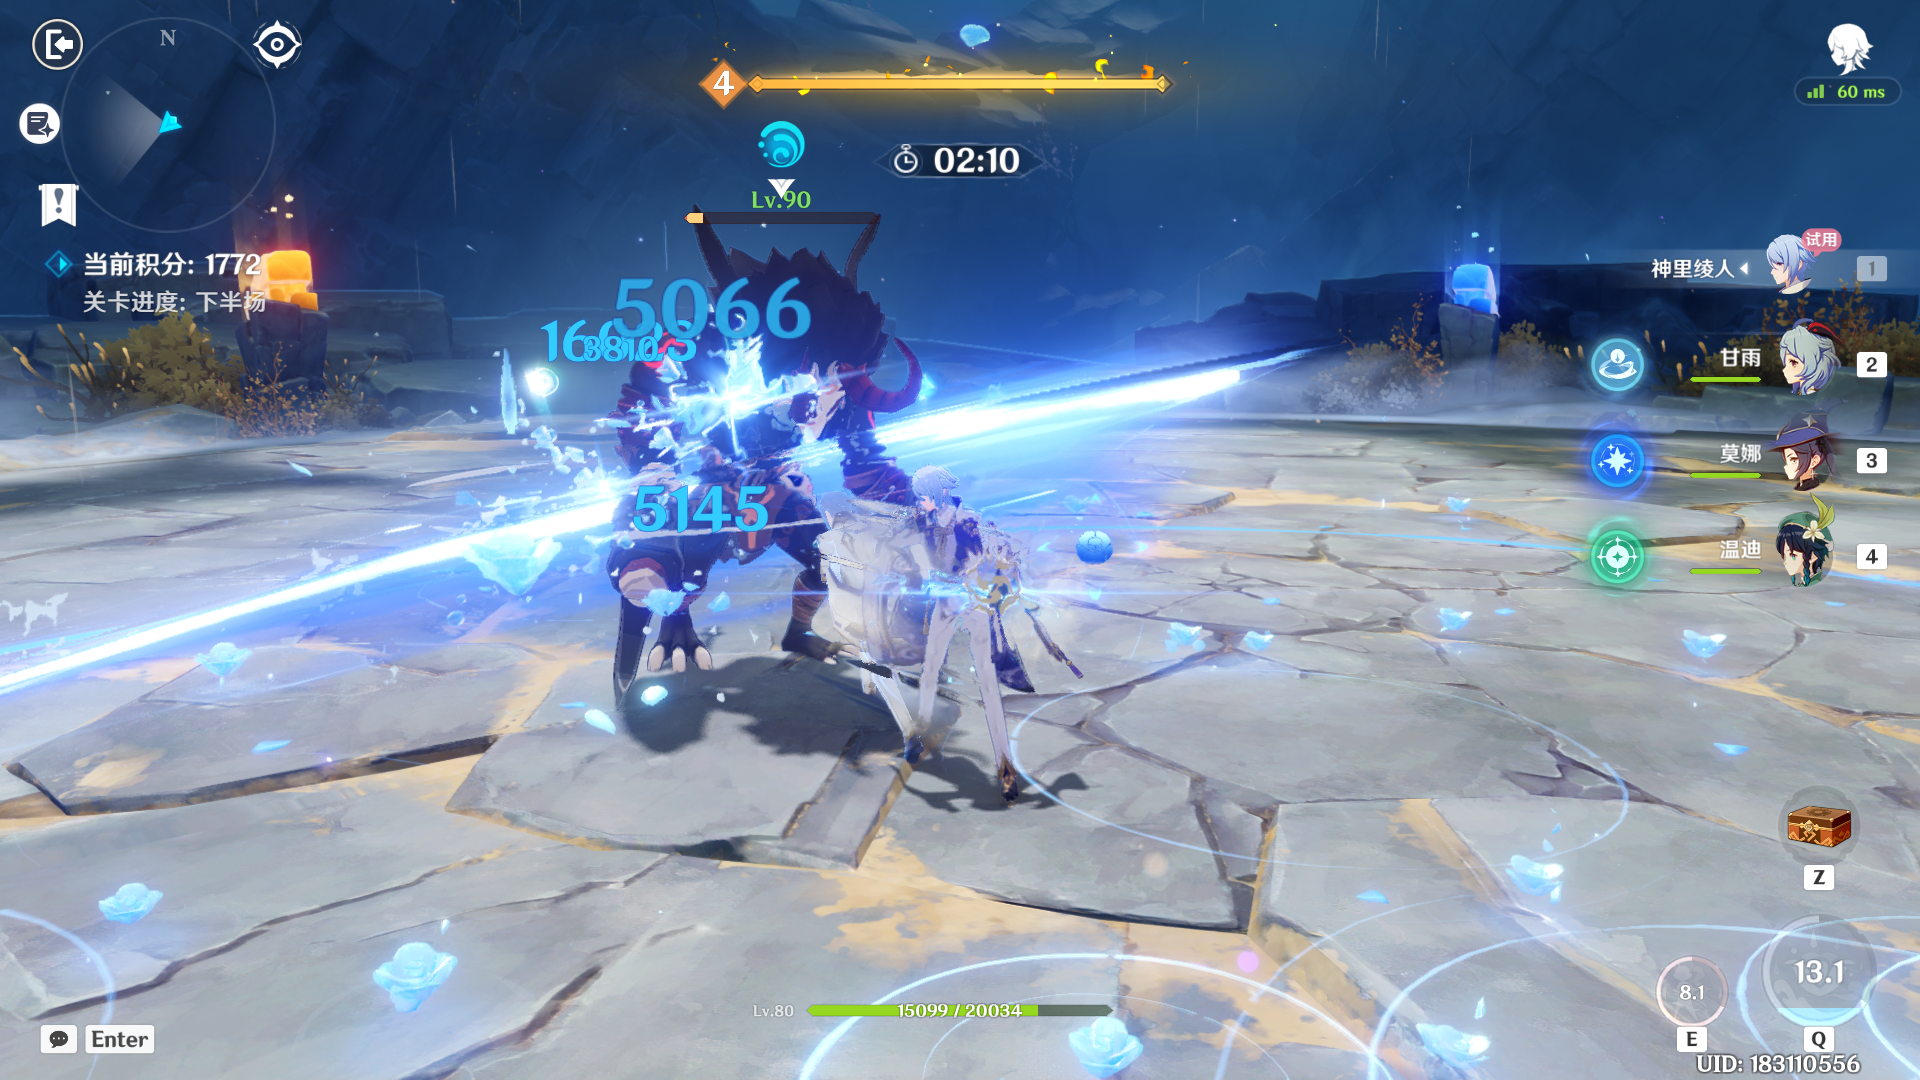bighili: (543, 206, 905, 713)
character: (851, 446, 1069, 829)
